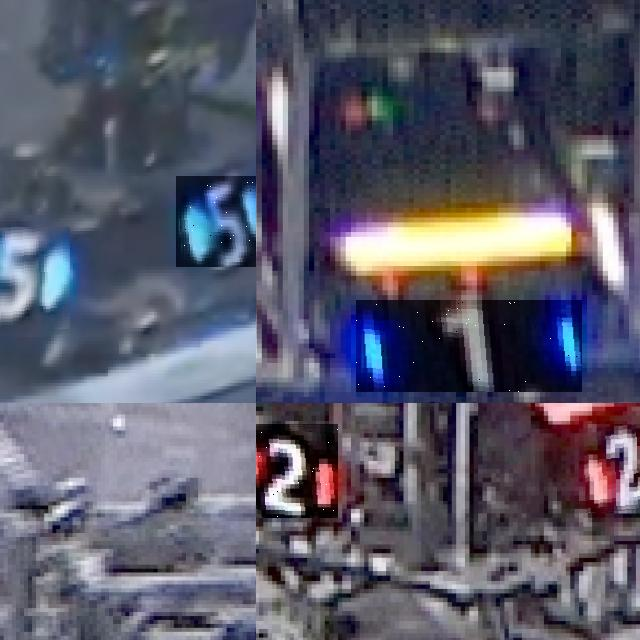B1: (356, 300, 582, 392)
B5: (0, 227, 70, 337), (175, 176, 256, 266)
R2: (256, 424, 338, 517), (579, 424, 640, 513)
